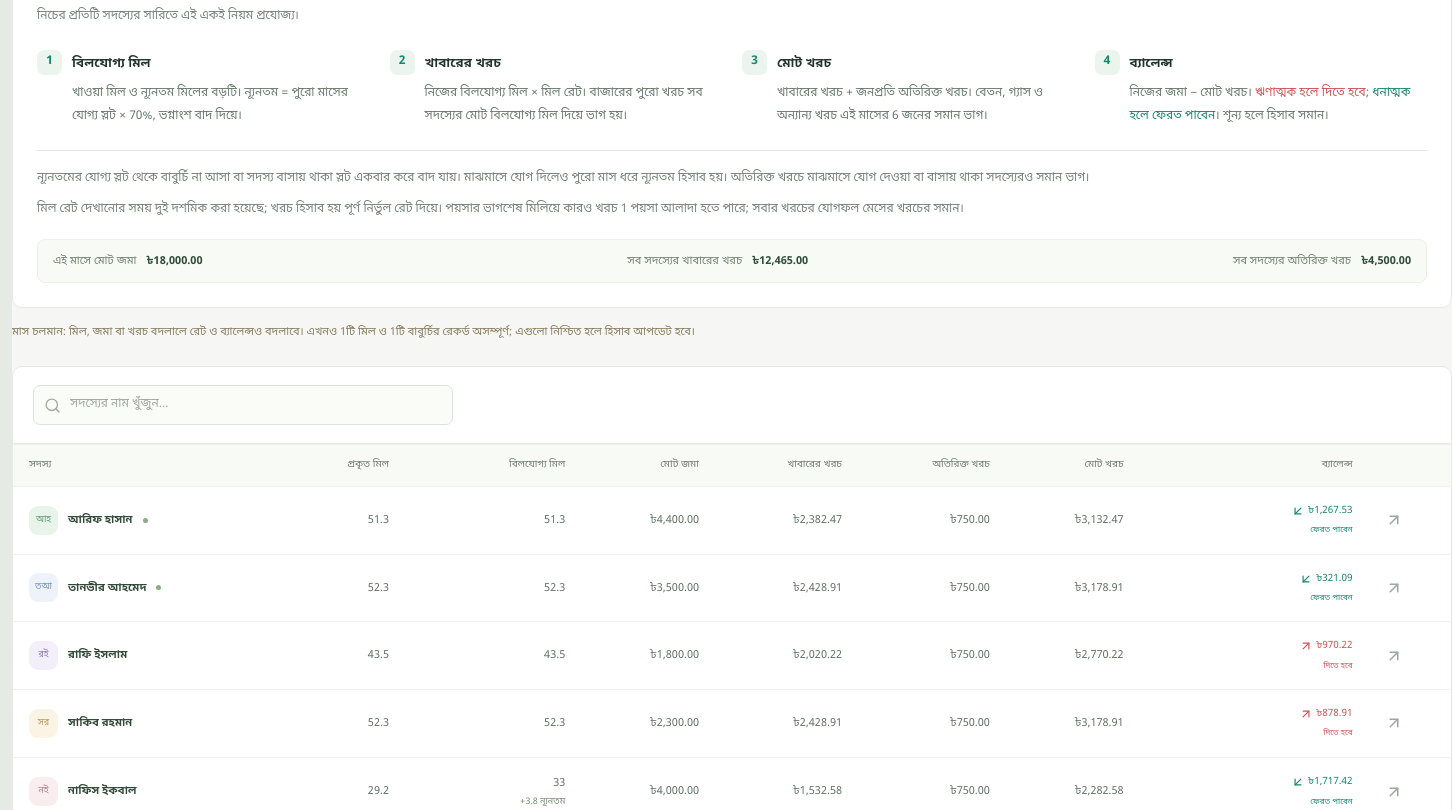
Test: monthly account explanation › shows authoritative shared totals, separate meal/extra costs and preserves totals during search
The image size is (1452, 810).
(page scrolled)
Expected: the column heading "খাবারের খরচ" is shown, [715,444,858,487]
Expected: the column heading "অতিরিক্ত খরচ" is shown, [858,444,1006,487]
Type "রাফি" into the field named "হিসাবের সদস্য খুঁজুন" at (243, 405), box [33,385,453,425]
(page scrolled)
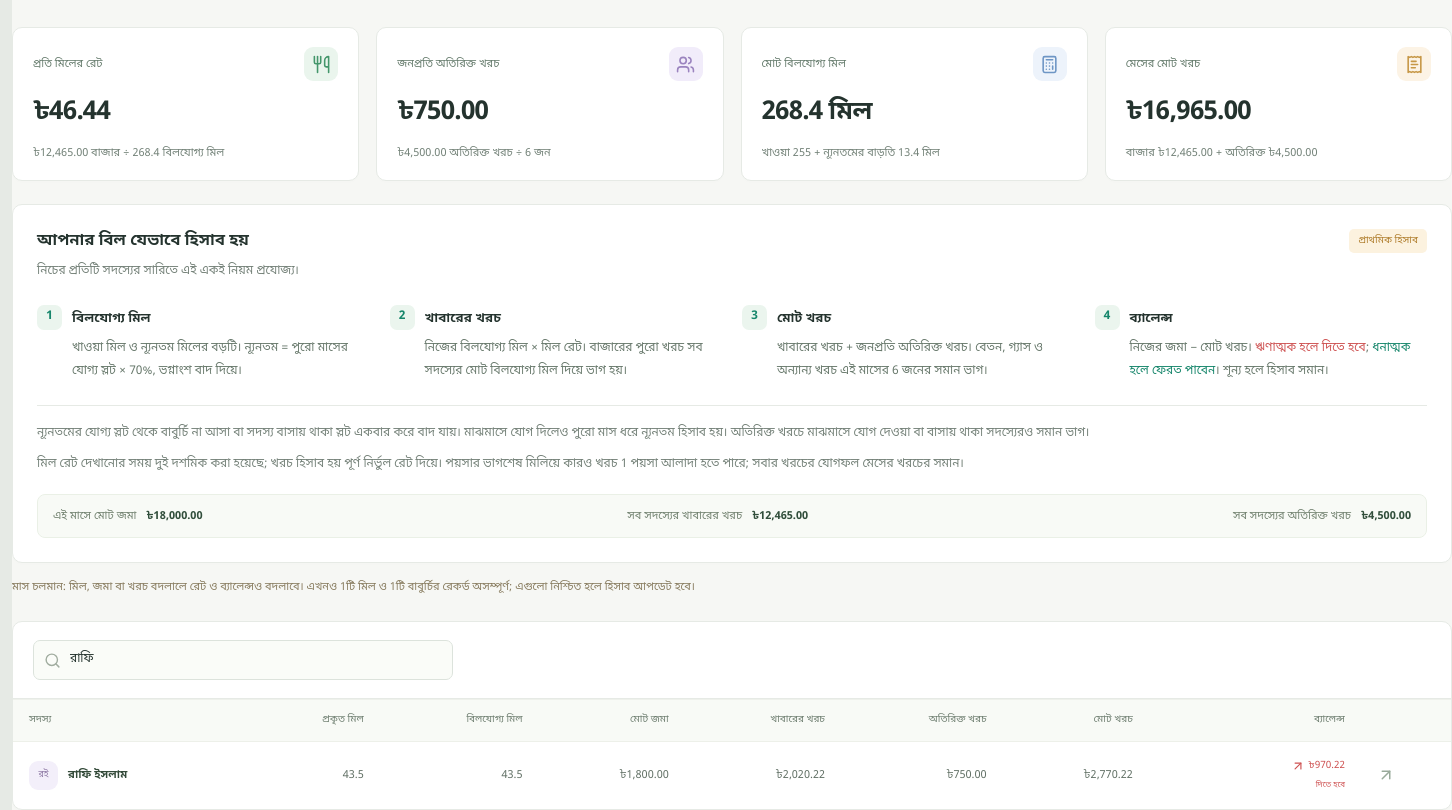
Expected: the text "জনপ্রতি অতিরিক্ত খরচ" shows "৳4,500.00 অতিরিক্ত খরচ ÷ 6 জন", [397,146,551,160]
Now the number of rows is 2, box [13,699,1451,742]; [13,742,1451,808]
